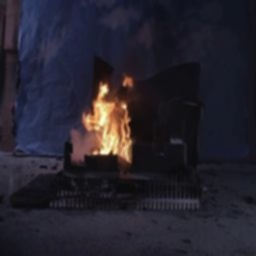fire: (77, 71, 138, 160)
